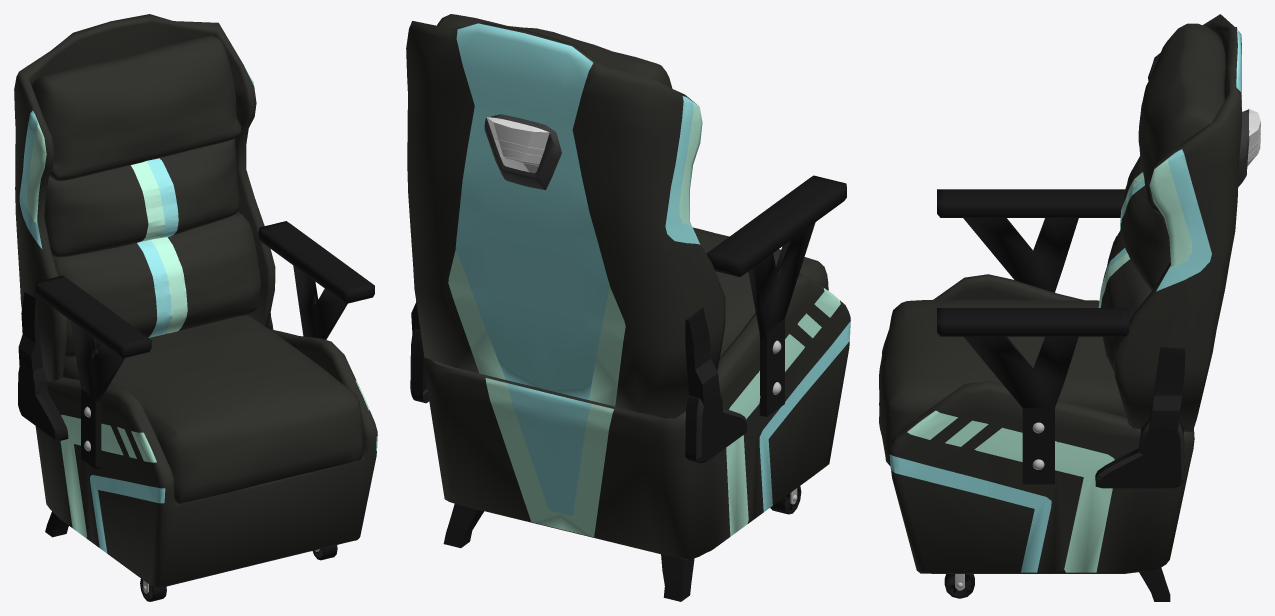
Rendered from sofa3.fbx.
3 views of the same model, side by side, from view 1: azimuth 30°, elevation 25°; view 2: azimuth 150°, elevation 25°; view 3: azimuth 270°, elevation 25° (orthographic). The views are drawn at different scales.
Parts seen in each view (by area): view 1: main, armrest, accent1, accent; view 2: main, accent, armrest, accent1, armrest1; view 3: main, armrest, accent1, accent, armrest1.
Boxes of the visible parts, box(x1,y1,x2,y2) form: main: box(14, 14, 377, 588); armrest: box(18, 221, 374, 601); accent1: box(26, 66, 369, 538); accent: box(19, 110, 377, 553); main: box(406, 14, 850, 559); accent: box(455, 23, 850, 515); armrest: box(410, 114, 846, 601); accent1: box(448, 102, 840, 537); armrest1: box(486, 117, 549, 173); main: box(879, 14, 1241, 573); armrest: box(937, 109, 1249, 601); accent1: box(907, 153, 1191, 572); accent: box(889, 28, 1241, 572); armrest1: box(1247, 109, 1260, 166).
Size of the model in its own units: 8.2 by 14.28 by 9.79.
6 materials, 1 textured.
